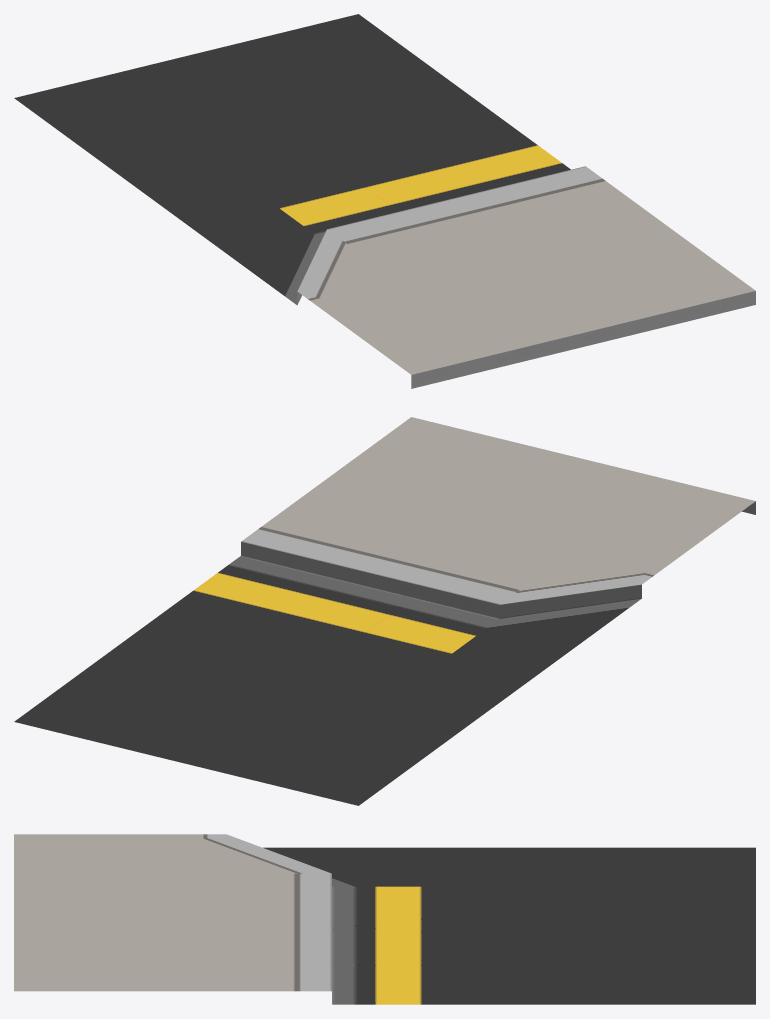
The model's file is road_bus_mesh.FBX.
3 views of the same model, one above another, from view 1: azimuth 30°, elevation 25°; view 2: azimuth 150°, elevation 25°; view 3: azimuth 270°, elevation 25° (orthographic). The views are drawn at different scales.
Parts seen in each view (by area): view 1: road_bus_mesh; view 2: road_bus_mesh; view 3: road_bus_mesh.
Part boxes in pixels (x1=…): road_bus_mesh: x1=14, y1=14, x2=755, y2=388; road_bus_mesh: x1=14, y1=417, x2=755, y2=805; road_bus_mesh: x1=14, y1=834, x2=755, y2=1004.
Bounding box in the file's own units: 5.01 × 10 × 0.1948.
1 material, 1 textured.
